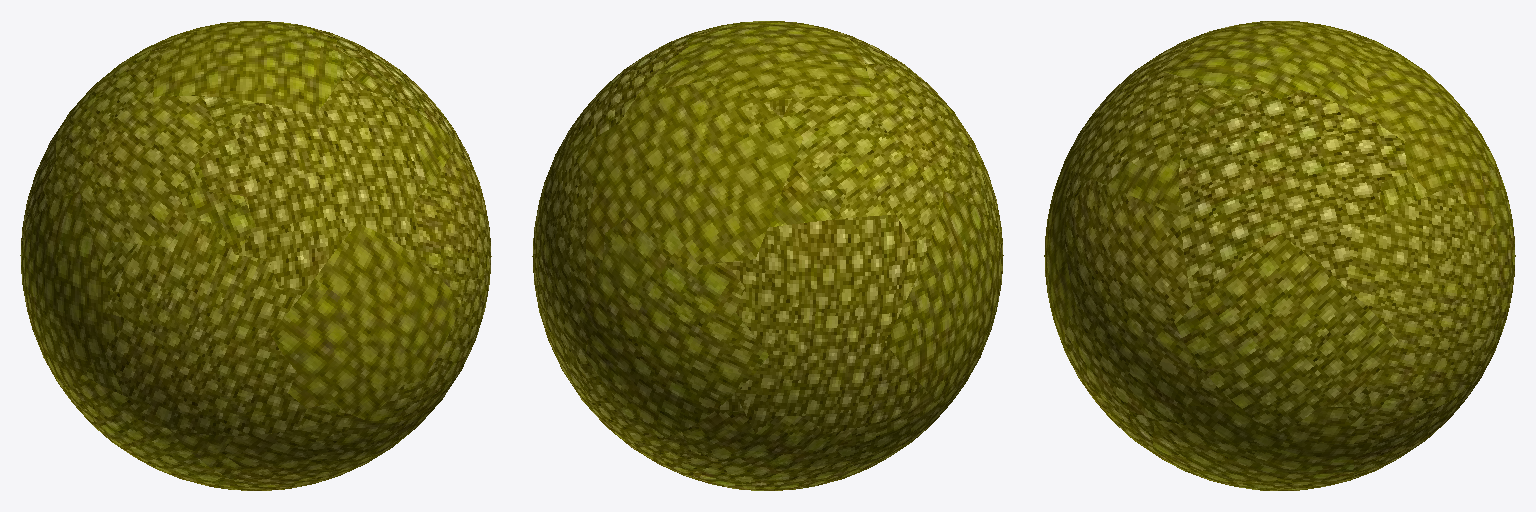
3 views of the same model, side by side, from view 1: azimuth 30°, elevation 25°; view 2: azimuth 150°, elevation 25°; view 3: azimuth 270°, elevation 25° (orthographic).
Parts seen in each view (by area): view 1: sphere-reptile.obj; view 2: sphere-reptile.obj; view 3: sphere-reptile.obj.
Boxes of the visible parts, x1=… form: sphere-reptile.obj: x1=20, y1=21, x2=491, y2=490; sphere-reptile.obj: x1=532, y1=21, x2=1003, y2=490; sphere-reptile.obj: x1=1044, y1=21, x2=1515, y2=490.
Size of the model in its own units: 10 by 10 by 10.
Materials: 1 (1 with a texture image).